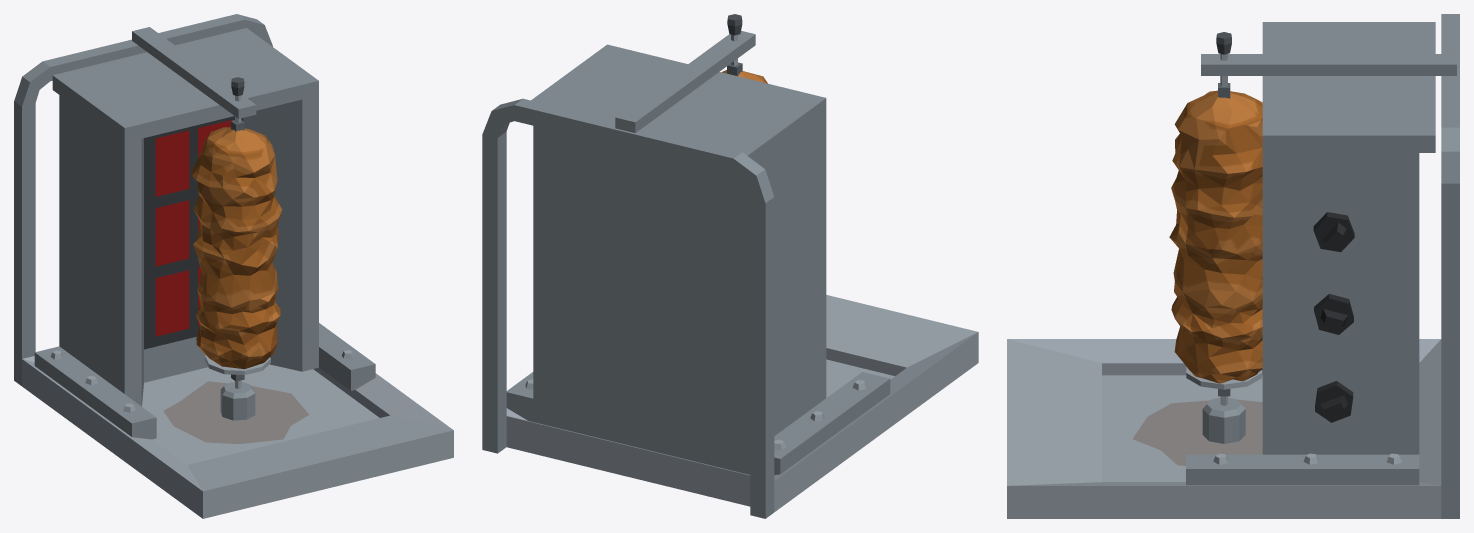
The model's file is Kebab_Rotisserie.fbx.
3 renders of one model, left to right at view 1: azimuth 30°, elevation 25°; view 2: azimuth 150°, elevation 25°; view 3: azimuth 270°, elevation 25°, orthographic. The views are drawn at different scales.
Visible parts, largest first — view 1: Kebab_Rotisserie; view 2: Kebab_Rotisserie; view 3: Kebab_Rotisserie.
Boxes of the visible parts, box(x1,y1,x2,y2) form: Kebab_Rotisserie: box(14, 14, 453, 518); Kebab_Rotisserie: box(482, 14, 978, 518); Kebab_Rotisserie: box(1007, 14, 1459, 518).
Bounding box in the file's own units: 63.11 × 82.23 × 82.28.
Materials: 1 (1 with a texture image).
